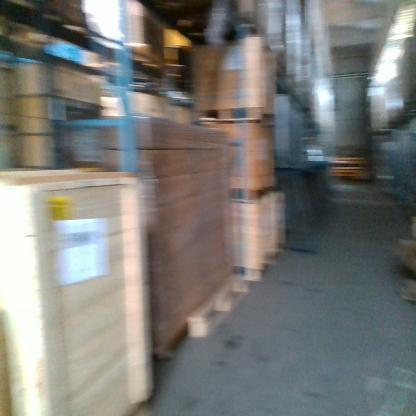pallets: (179, 241, 287, 347), (191, 103, 279, 132)
